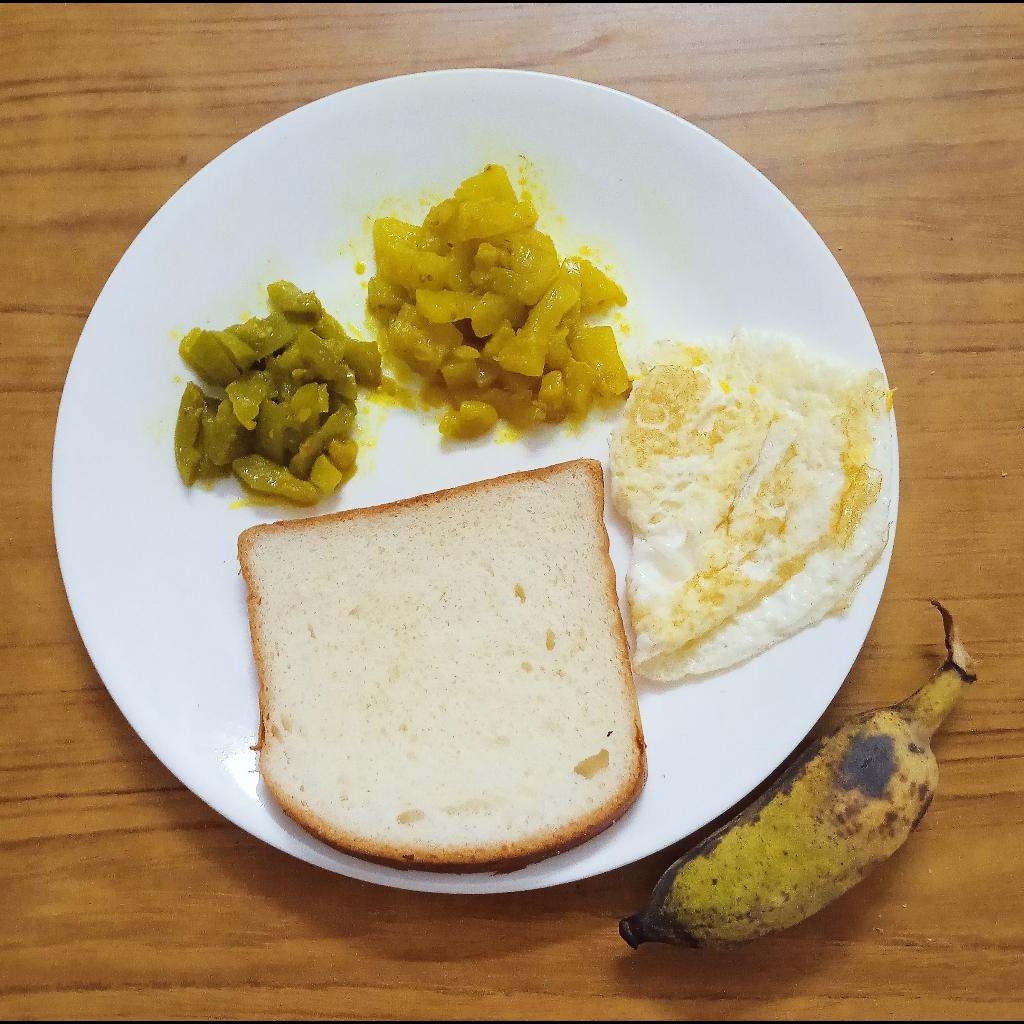banana: (622, 662, 978, 947)
bread: (238, 456, 646, 877)
dundol: (174, 281, 385, 506)
egg-poached: (605, 333, 895, 685)
lau: (369, 165, 631, 442)
